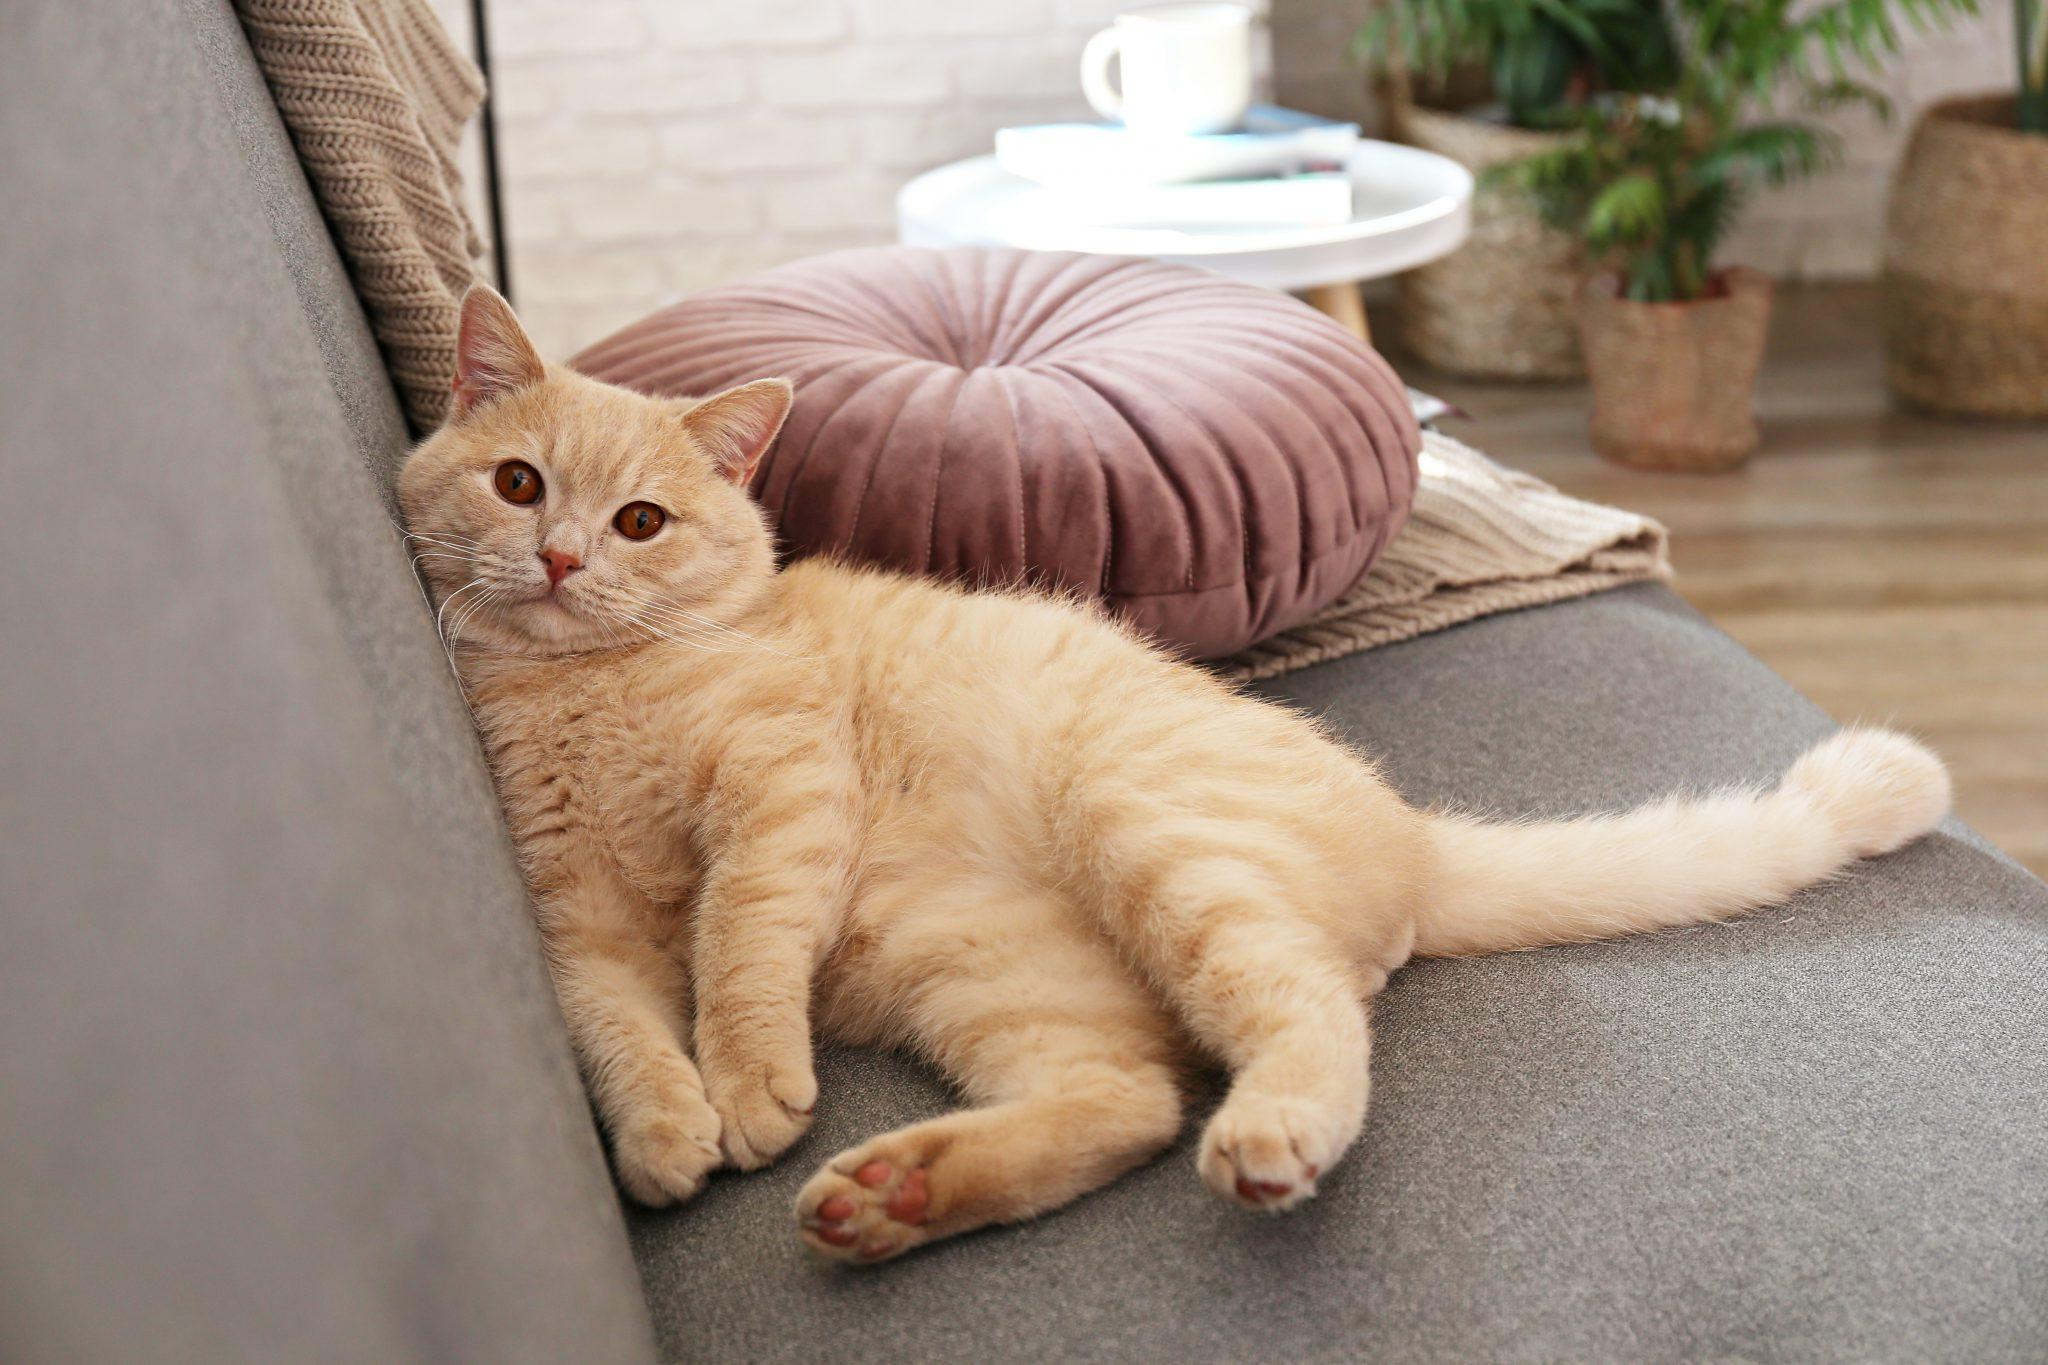cat: (364, 261, 1954, 1260)
